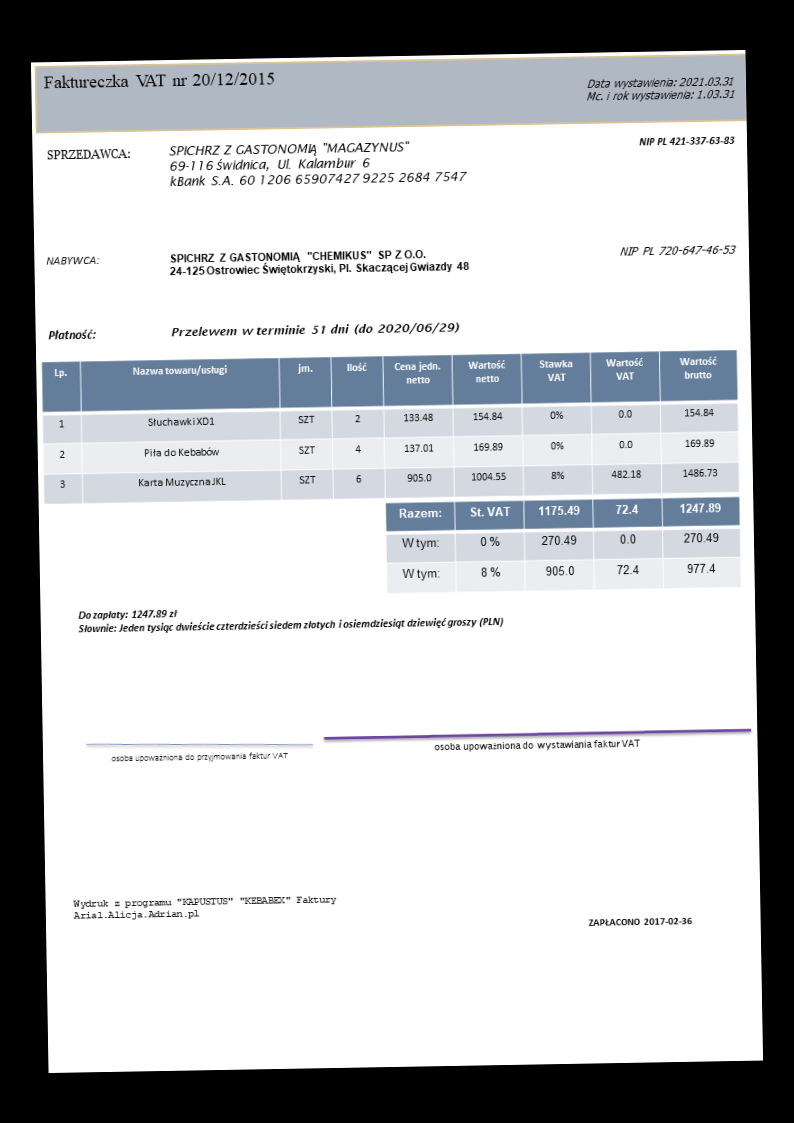Table: (40, 348, 740, 503), (384, 496, 742, 595)
TextBox: (165, 137, 470, 192), (76, 600, 504, 638), (166, 245, 471, 281), (70, 893, 339, 921), (42, 68, 276, 92), (170, 320, 461, 339), (585, 73, 737, 105), (432, 737, 642, 755), (110, 748, 290, 764), (617, 242, 737, 259), (636, 131, 737, 149), (585, 913, 693, 929), (43, 145, 133, 164), (45, 326, 97, 342), (44, 253, 101, 267)
